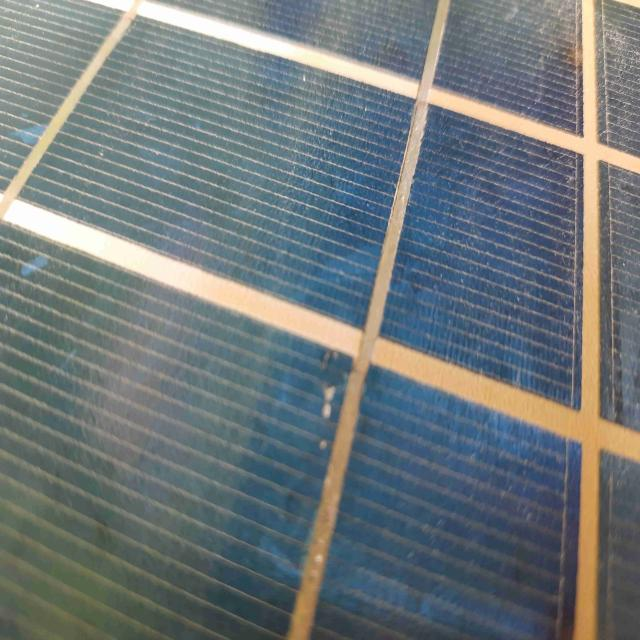dust-solar-panel: (0, 0, 360, 637)
